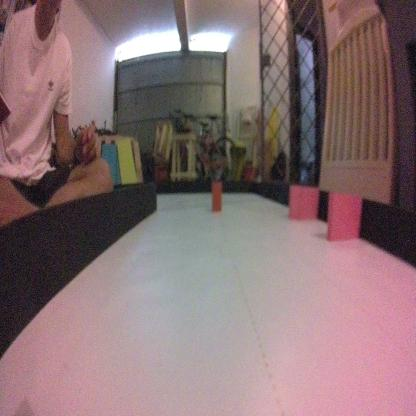magenta: (326, 192, 363, 250), (288, 182, 319, 220)
red: (210, 179, 223, 212)
